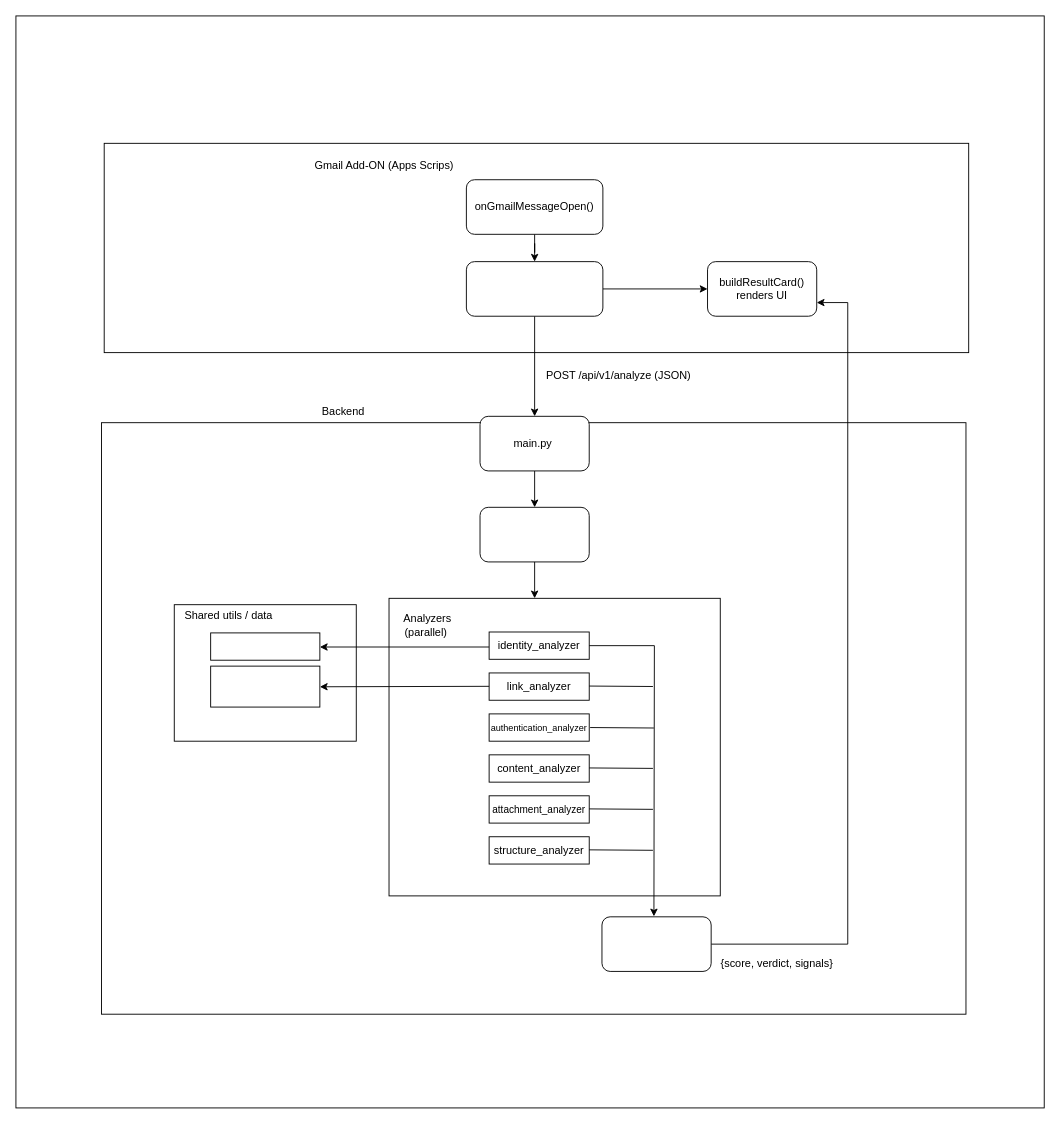
Some shapes in this 1060 by 1124 pixel diagram are drawn without their labels. The box of each missing label's shape, as (x1, y1, x2, y2) in pixels:
analyzeMessage() collects sender/subject/body/links: (465, 261, 603, 316)
domain_utils.py: (210, 632, 320, 660)
knowledge.py (brand domains, url shorteners): (210, 665, 320, 707)
parser.py normalize email JSON: (479, 506, 589, 562)
scoring.py: (601, 916, 711, 971)
